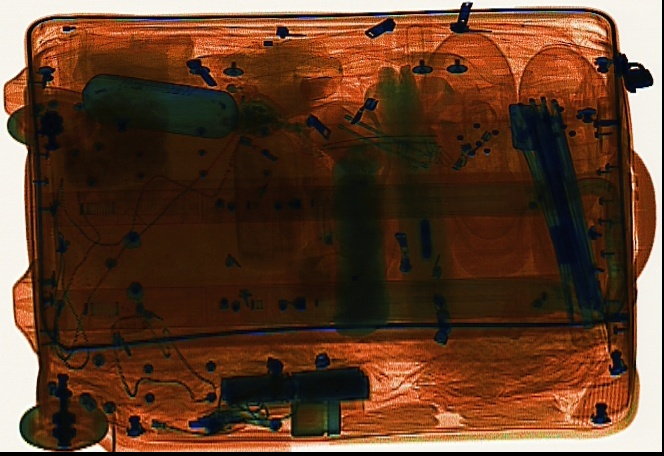powerbank: (219, 365, 373, 408)
